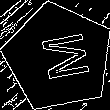M_W: (29, 29, 88, 85)
